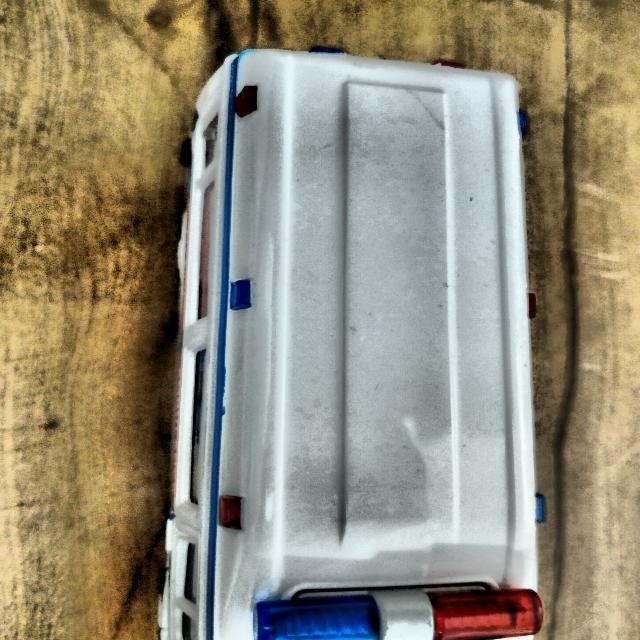Ambulance: (160, 45, 560, 640)
